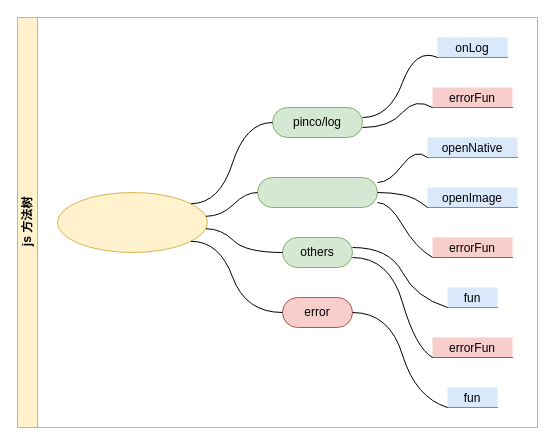
The diagram is 555 pixels wide and 445 high, and some of its shapes have lost their labels. Each missing label, with the centre of its shape:
pinco/common: point (317, 192)
window.dispatch 方法: point (132, 222)
